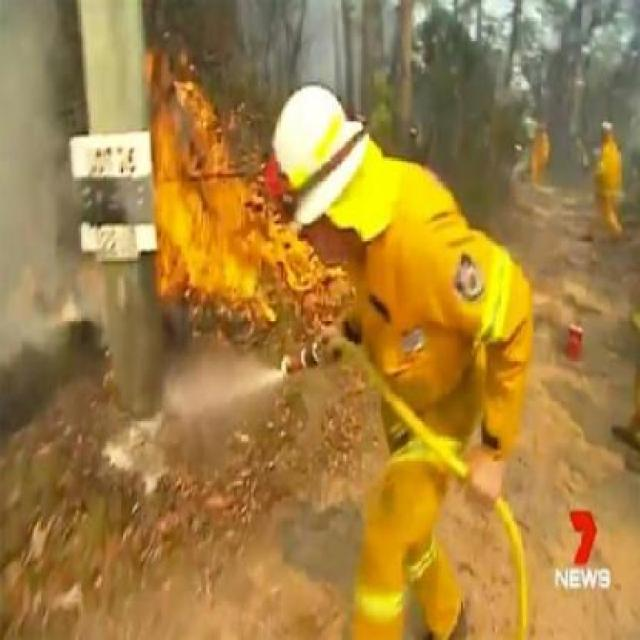Fire: (142, 40, 346, 352)
